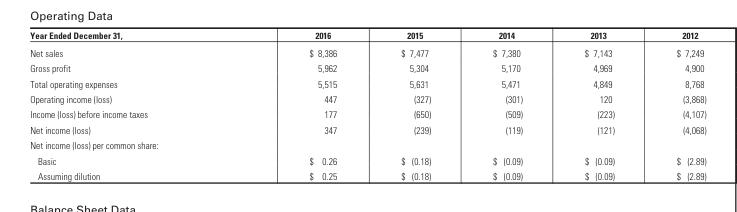table: (29, 29, 705, 181)
table column: (29, 29, 227, 181), (227, 29, 368, 181), (368, 29, 461, 181), (552, 29, 644, 181), (461, 29, 552, 181), (644, 29, 705, 181)
table column header: (29, 29, 705, 43)
table projected row header: (29, 137, 705, 152)
table row: (29, 43, 705, 60), (29, 75, 705, 91), (29, 121, 705, 137), (29, 60, 705, 75), (29, 91, 705, 106), (29, 106, 705, 121), (29, 137, 705, 152), (29, 152, 705, 167), (29, 29, 705, 43), (29, 167, 705, 181)
